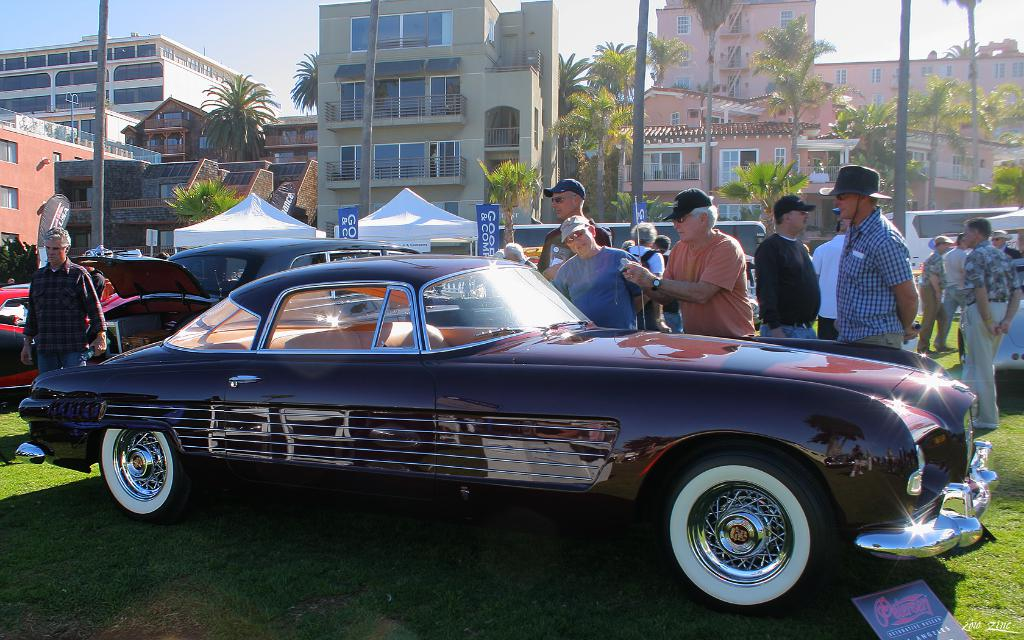Car: (17, 251, 993, 612), (0, 256, 185, 384)
